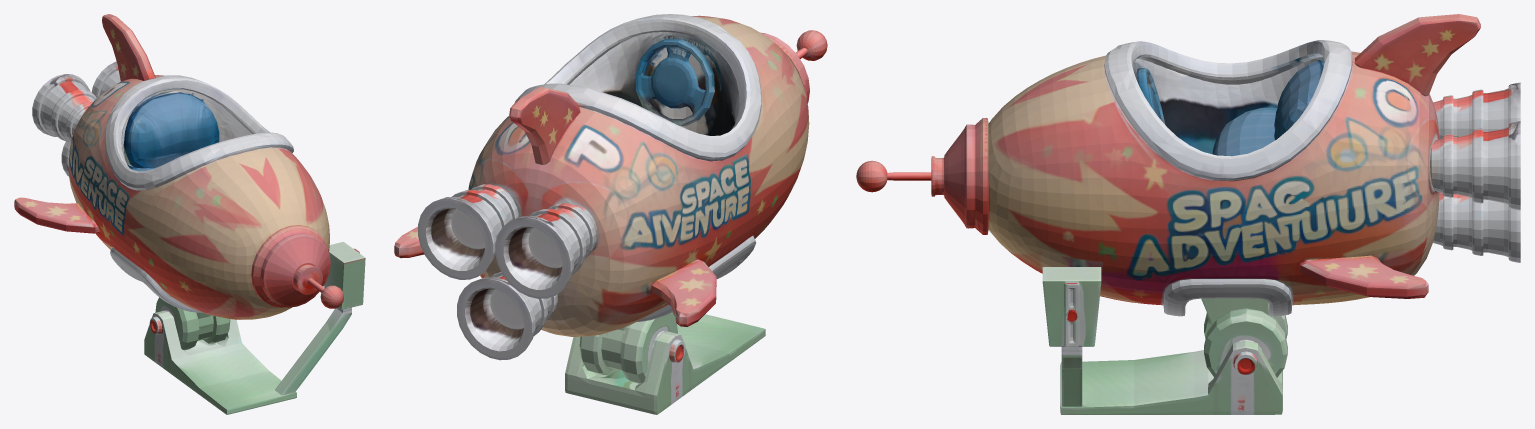
The picture shows the model from 3 angles, left to right: view 1: azimuth 30°, elevation 25°; view 2: azimuth 150°, elevation 25°; view 3: azimuth 270°, elevation 25°; orthographic projection. The views are drawn at different scales.
Visible parts, largest first — view 1: mvadapter_node_0007_9cf9da6809894cae9377ae94b1d4256b; view 2: mvadapter_node_0007_9cf9da6809894cae9377ae94b1d4256b; view 3: mvadapter_node_0007_9cf9da6809894cae9377ae94b1d4256b.
Boxes of the visible parts, x1=… form: mvadapter_node_0007_9cf9da6809894cae9377ae94b1d4256b: x1=14, y1=14, x2=365, y2=414; mvadapter_node_0007_9cf9da6809894cae9377ae94b1d4256b: x1=394, y1=14, x2=827, y2=414; mvadapter_node_0007_9cf9da6809894cae9377ae94b1d4256b: x1=856, y1=14, x2=1520, y2=414.
Bounding box in the file's own units: 0.5315 × 0.6253 × 1.
1 material, 1 textured.
